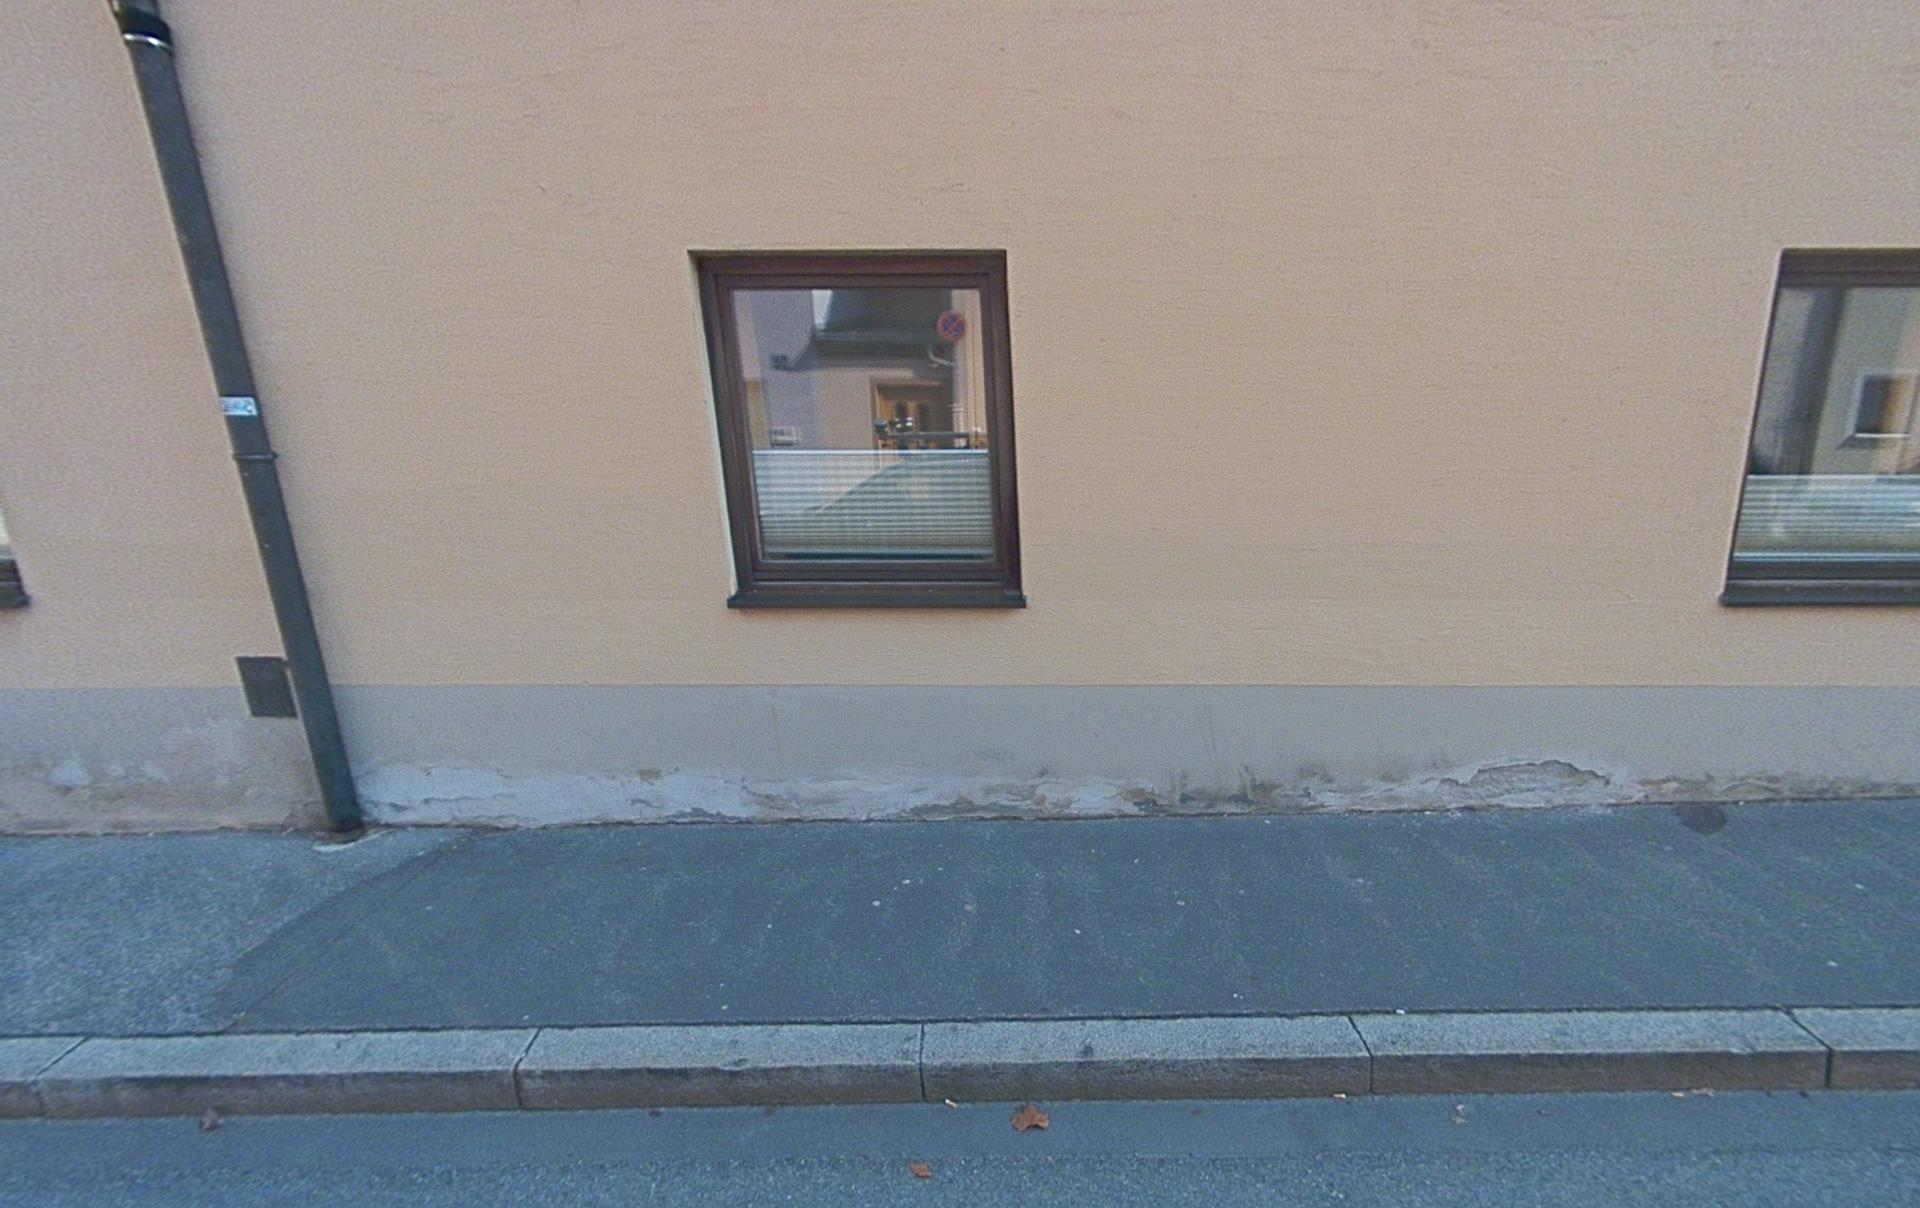car: (760, 447, 996, 557)
